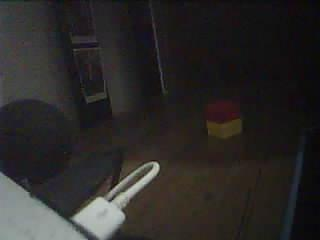lego: (204, 99, 243, 137)
